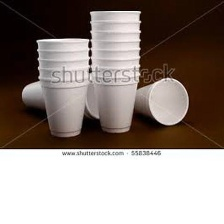paper_cup: (84, 5, 144, 136), (33, 32, 92, 139), (17, 70, 110, 123), (120, 73, 192, 128)
